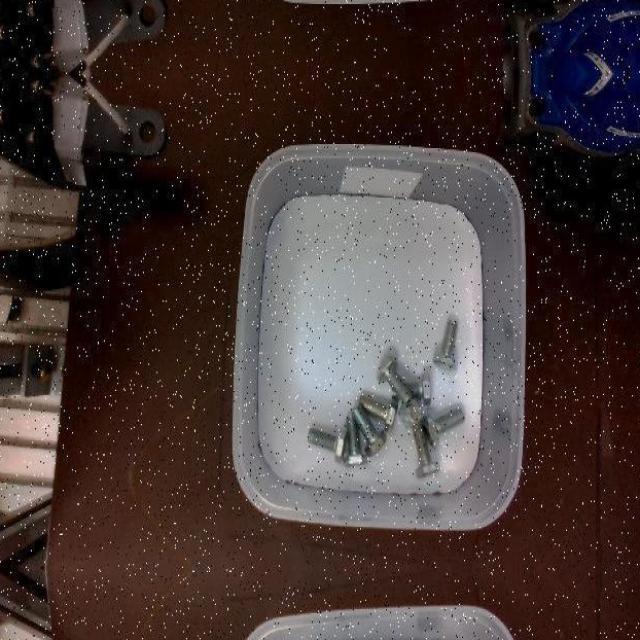screw: (376, 354, 412, 403), (422, 407, 465, 448), (354, 406, 388, 456), (412, 423, 440, 478), (358, 395, 397, 432), (306, 427, 346, 463), (341, 414, 368, 466), (432, 318, 458, 370)
